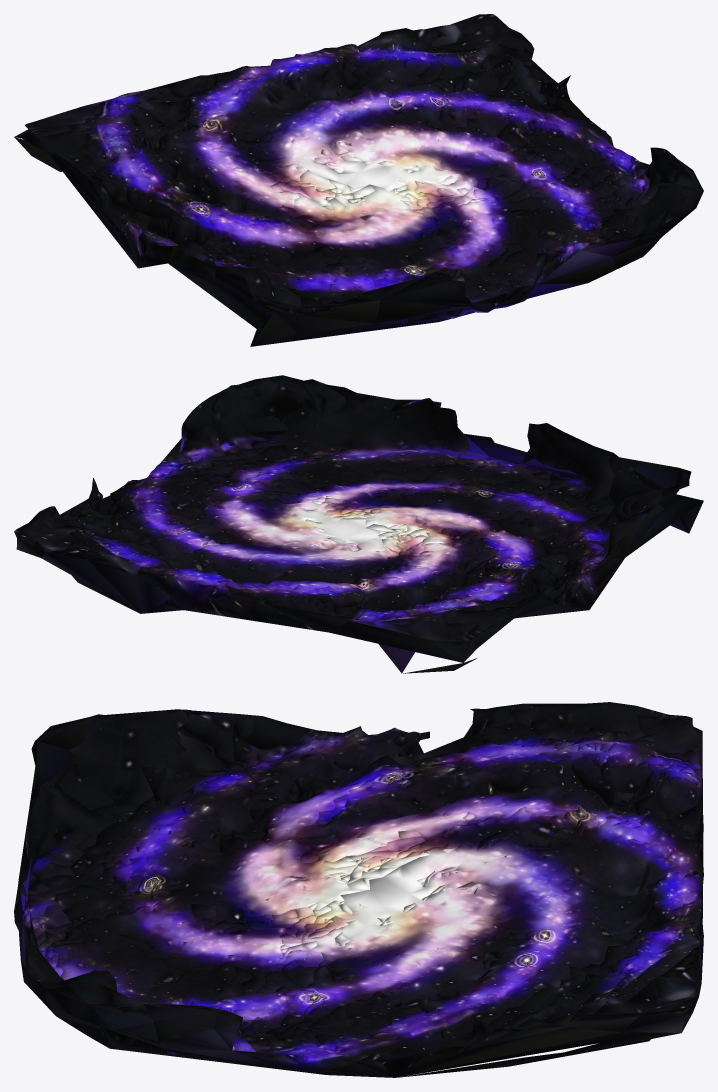
Rendered from sporeverse_v2.1_solidified.glb.
3 renders of one model, top to bottom at view 1: azimuth 30°, elevation 25°; view 2: azimuth 150°, elevation 25°; view 3: azimuth 270°, elevation 25°, orthographic. The views are drawn at different scales.
Visible parts, largest first — view 1: Mesh_0.008; view 2: Mesh_0.008; view 3: Mesh_0.008.
Boxes of the visible parts, box(x1,y1,x2,y2) form: Mesh_0.008: box(14, 14, 703, 346); Mesh_0.008: box(14, 375, 703, 673); Mesh_0.008: box(14, 702, 703, 1077).
Size of the model in its own units: 12.3 by 1.46 by 11.65.
1 material, 1 textured.
